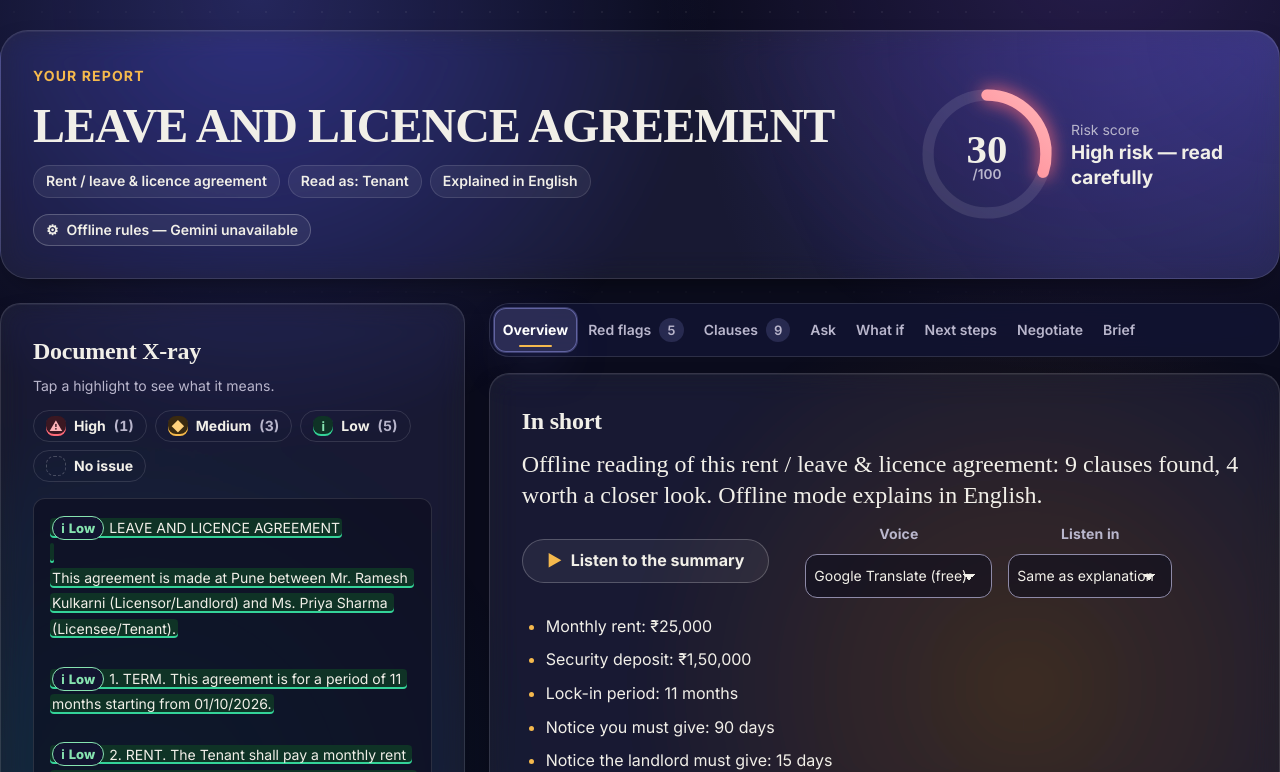
ReportWorkspace › renders every red flag with severity text and its official source
Click the tab "Red flags 5" at coordinates (636, 330), box [579,308,693,352]
(page scrolled)
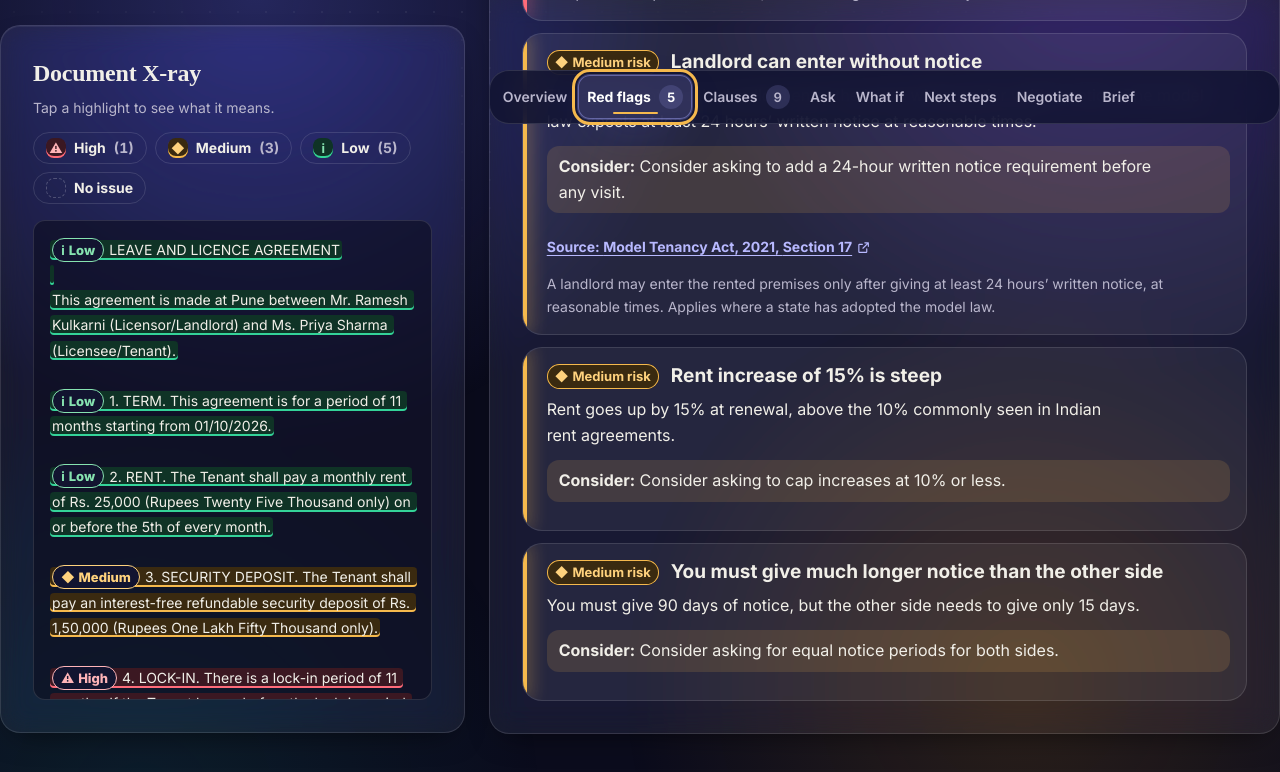
Check: the text "◆ Medium risk" next to "Landlord can enter without notice" is shown, box [572,54,651,70]
Check: the list item "Landlord can enter without notice" is shown, box [522,33,1247,335]
Check: the list item "You must give much longer notice than the other side" is shown, box [522,543,1247,701]
